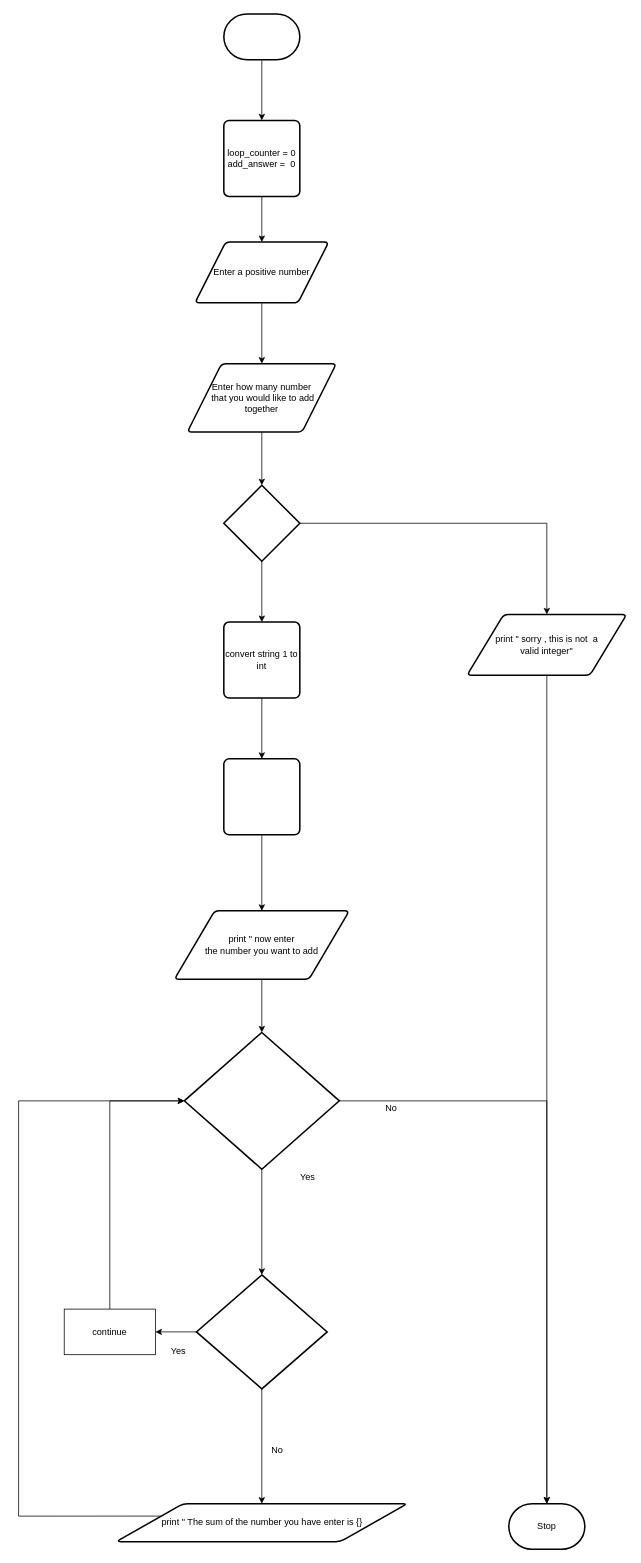
Some shapes in this 641 by 1563 pixel diagram are drawn without their labels. The shapes that lost their labels are listed below. From the top down, each one's box as (x1, y1, x2, y2) in pixels, then its label:
(223, 13, 300, 60): Start
(223, 484, 300, 562): try
(223, 758, 300, 835): convert string 2 to int
(183, 1031, 340, 1170): while loop-counter < user_number_int add_number_str = input
(195, 1274, 328, 1389): if add_number_+int < 0
